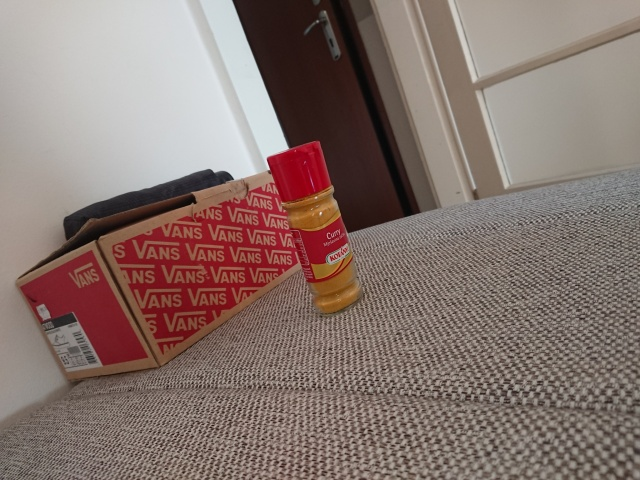Kotanyi Curry Spices Mix 70g: (264, 138, 367, 319)
